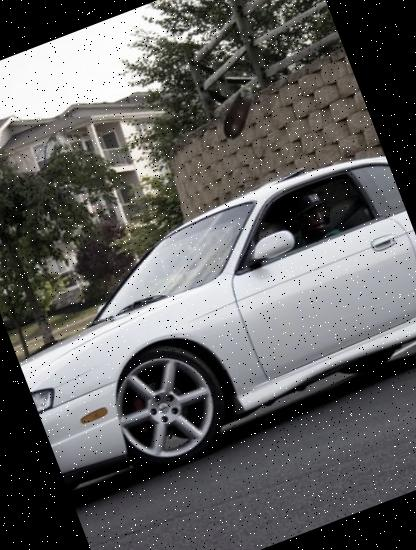Eggplant: (199, 72, 278, 151)
